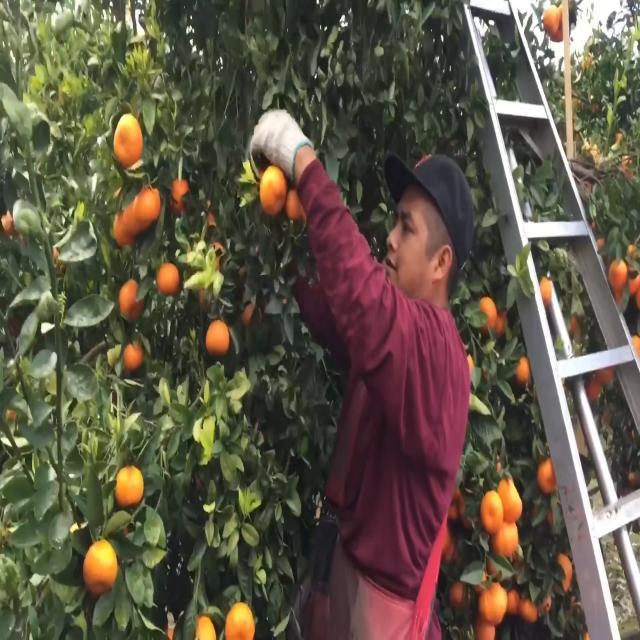Jeruk Sudah Matang: (256, 163, 288, 225), (84, 537, 120, 592), (112, 112, 144, 166), (478, 578, 509, 624), (224, 601, 256, 640), (114, 466, 144, 506), (116, 280, 144, 320), (480, 486, 504, 532), (552, 547, 574, 594), (536, 460, 560, 500), (206, 318, 230, 356), (120, 340, 147, 372), (477, 294, 497, 336), (157, 262, 180, 298), (609, 253, 628, 290)
